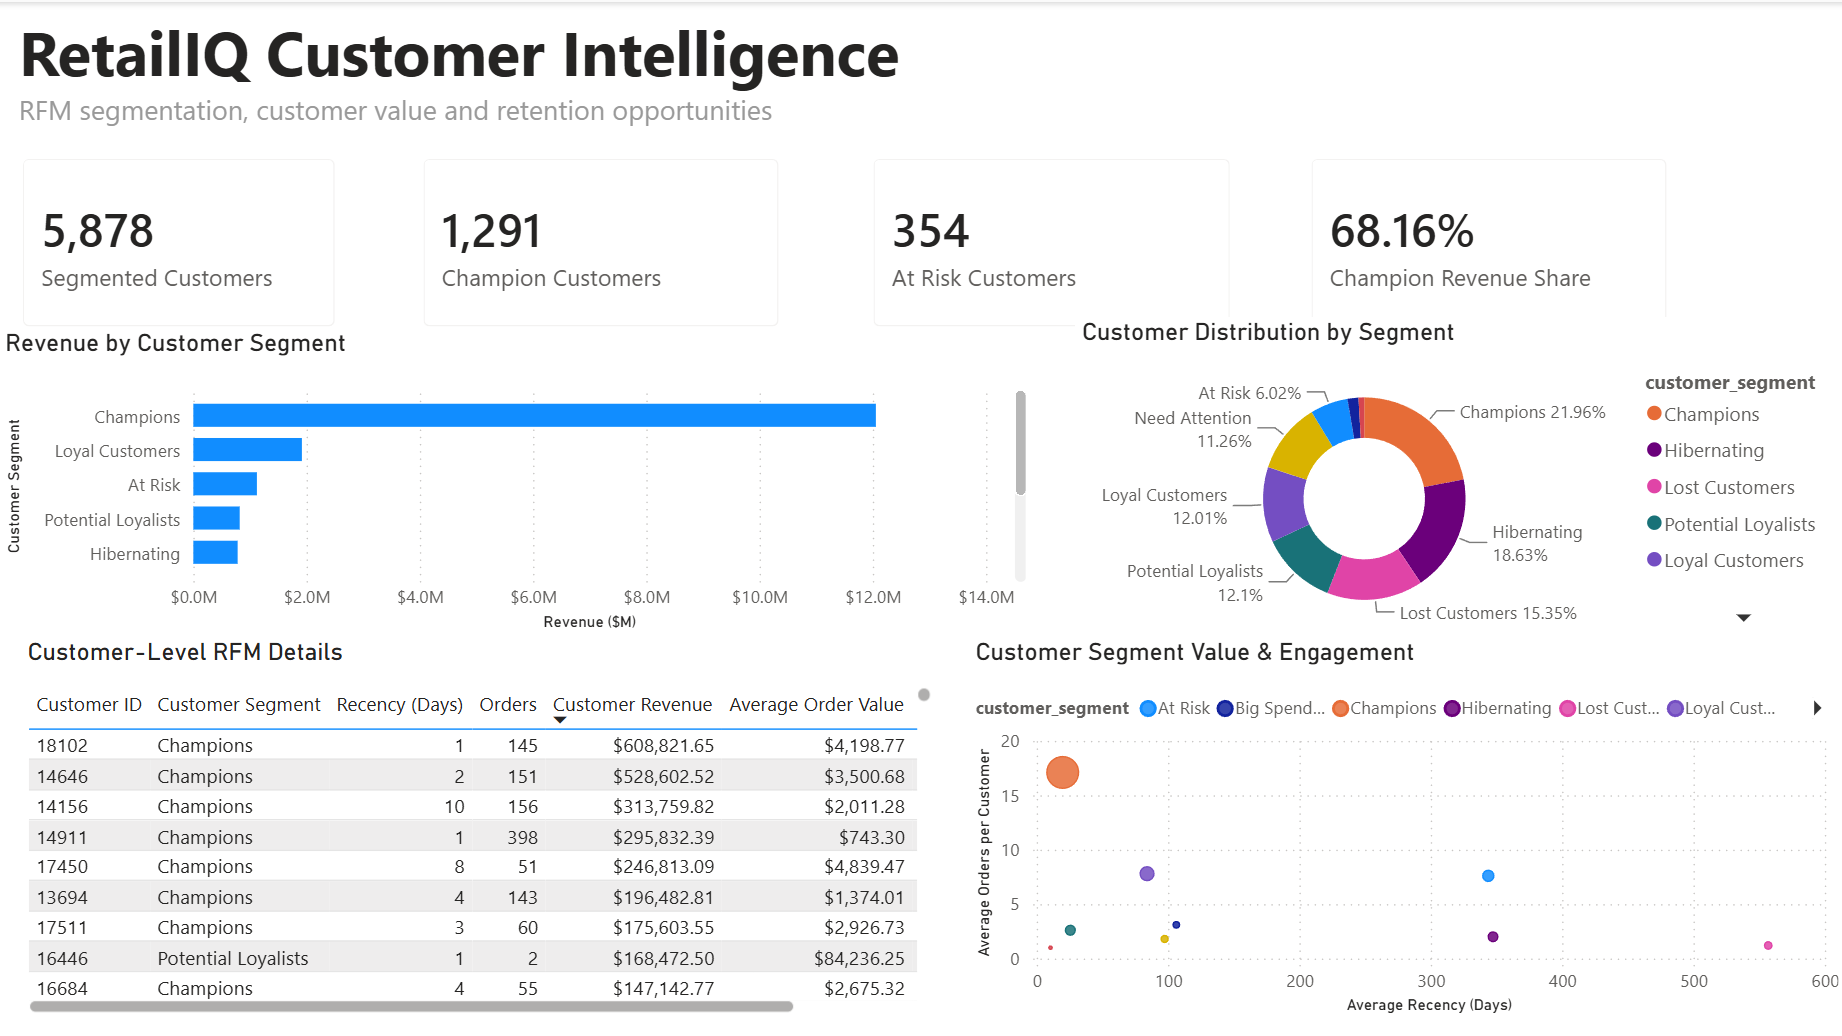

The page's visual inventory and layout, read from the dashboard file:
{"tool":"powerbi","page":{"name":"Customer Intelligence","canvas":[1280,720],"ordinal":1},"visuals":[{"type":"textbox","box":[9.6,0,814.7,91.5],"z":0},{"type":"cardVisual","fields":{"Data":["RFM_Segment_Summary.Segmented Customers"]},"box":[0,91.5,250,150],"z":1000},{"type":"cardVisual","fields":{"Data":["RFM_Segment_Summary.Champion Customers"]},"box":[278,91.5,280.4,150.4],"z":2000},{"type":"cardVisual","fields":{"Data":["RFM_Segment_Summary.Champion Revenue Share"]},"box":[892.9,91.5,280.4,150.4],"z":3000},{"type":"cardVisual","fields":{"Data":["RFM_Segment_Summary.At Risk Customers"]},"box":[589.7,91.5,281.6,150.4],"z":4000},{"type":"clusteredBarChart","title":"Revenue by Customer Segment","fields":{"Category":["RFM_Segment_Summary.customer_segment"],"Y":["Sum(RFM_Segment_Summary.total_revenue)"]},"box":[0,225,717.2,214.2],"z":5000},{"type":"donutChart","title":"Customer Distribution by Segment","fields":{"Category":["RFM_Segment_Summary.customer_segment"],"Y":["Sum(RFM_Segment_Summary.customer_count)"]},"box":[746.2,218.2,534.2,221.4],"z":6000},{"type":"tableEx","title":"Customer-Level RFM Details","fields":{"Values":["Customer_RFM.customer_id","Customer_RFM.customer_segment","Customer_RFM.recency_days","Customer_RFM.frequency","Customer_RFM.monetary","Customer_RFM.average_order_value","Customer_RFM.latest_purchase_date"]},"box":[15.6,439.2,635.4,266],"z":7000},{"type":"scatterChart","title":"Customer Segment Value & Engagement","fields":{"X":["RFM_Segment_Summary.average_recency_days"],"Y":["RFM_Segment_Summary.average_frequency"],"Size":["Sum(RFM_Segment_Summary.total_revenue)"],"Series":["RFM_Segment_Summary.customer_segment"]},"box":[672.4,439.6,608,266],"z":8000}]}

Visuals, with their boxes in screenshot pixels (x1, y1, x2, y2), scaled from the page's 1280x720 canvas onto the 1842x1036 screenshot:
textbox: 14/0/1186/132
cardVisual - RFM_Segment_Summary.Segmented Customers: 0/132/360/347
cardVisual - RFM_Segment_Summary.Champion Customers: 400/132/804/348
cardVisual - RFM_Segment_Summary.Champion Revenue Share: 1285/132/1688/348
cardVisual - RFM_Segment_Summary.At Risk Customers: 849/132/1254/348
"Revenue by Customer Segment" clusteredBarChart: 0/324/1032/632
"Customer Distribution by Segment" donutChart: 1074/314/1841/633
"Customer-Level RFM Details" tableEx: 22/632/937/1015
"Customer Segment Value & Engagement" scatterChart: 968/633/1841/1015
